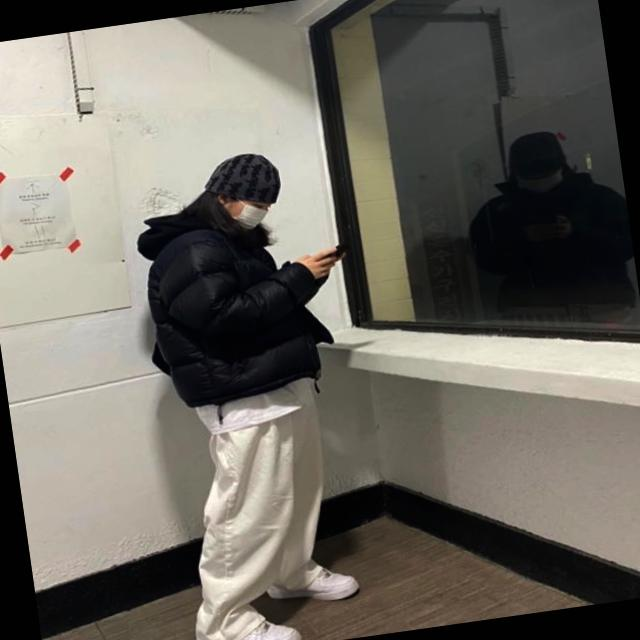cottonpants: (165, 369, 351, 640)
padding: (124, 185, 344, 408)
